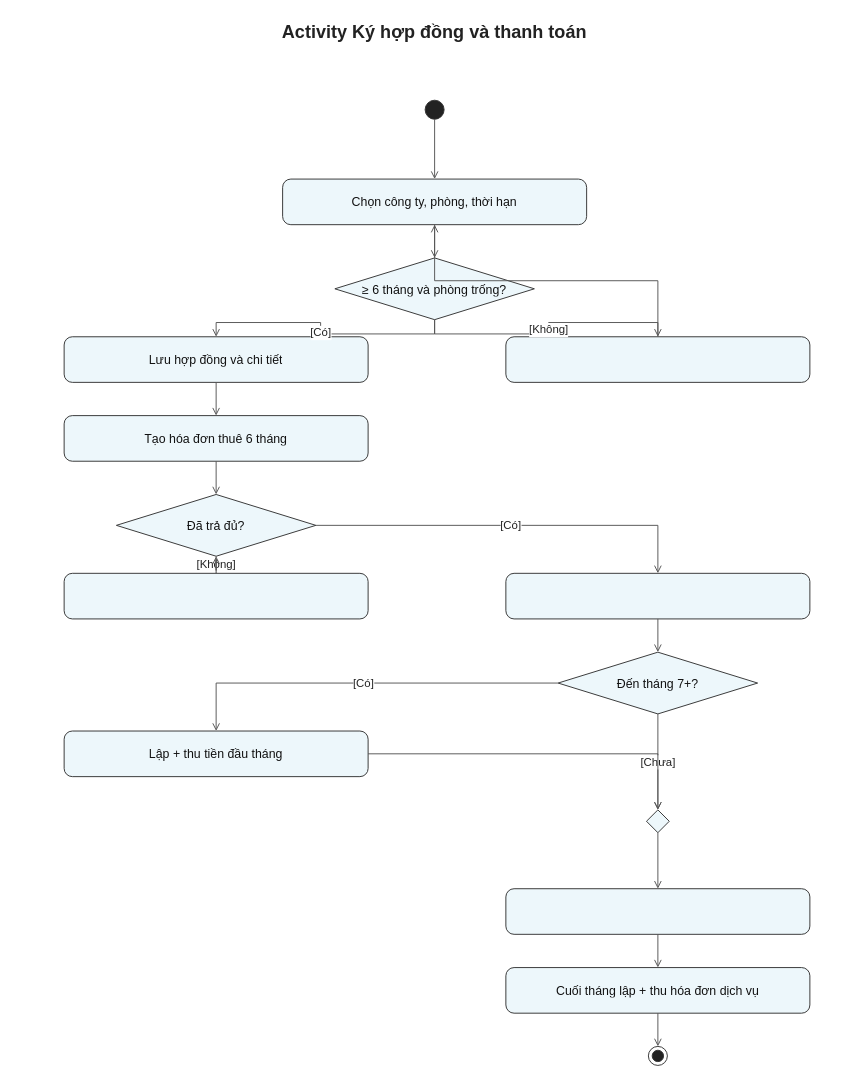
This 868x1082 diagram has some shape labels left out. Here are the shapes that lost their labels. From the top down, the box of each, then its label:
(505, 336, 810, 382): Báo lỗi / sửa dữ liệu
(63, 572, 368, 619): Chưa kích hoạt / chờ thu
(505, 572, 810, 619): Kích hoạt hợp đồng
(505, 888, 810, 934): Ghi phát sinh dịch vụ
